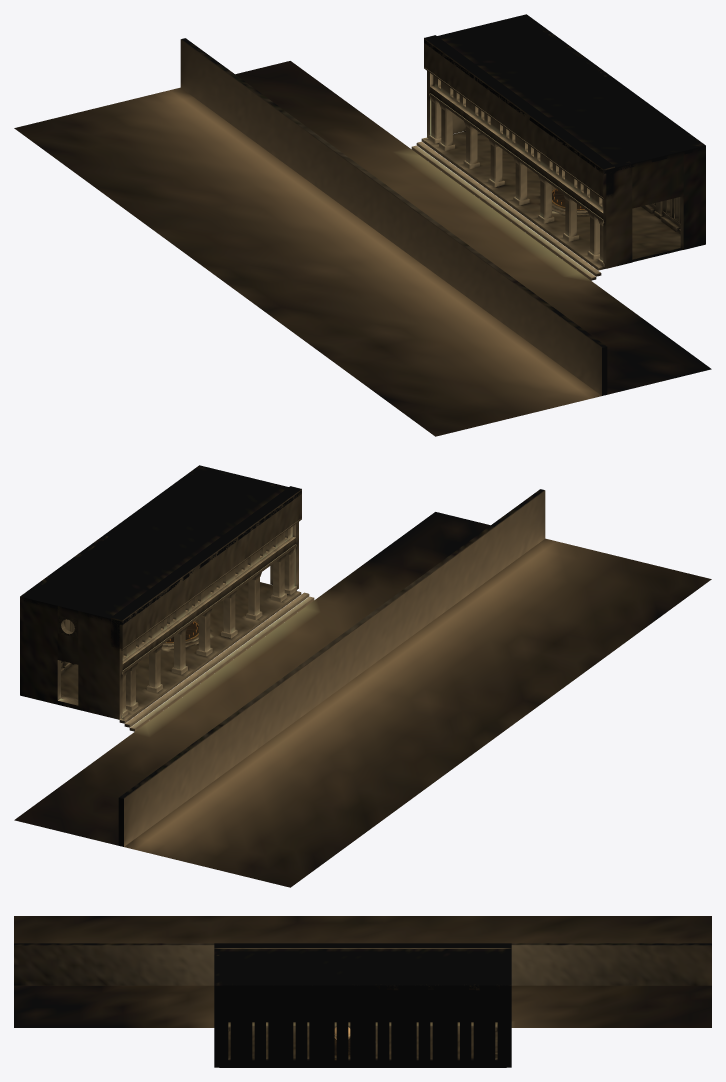
File: arcade.glb
3 views of the same model, one above another, from view 1: azimuth 30°, elevation 25°; view 2: azimuth 150°, elevation 25°; view 3: azimuth 270°, elevation 25° (orthographic). The views are drawn at different scales.
Visible parts, largest first — view 1: arcade; view 2: arcade; view 3: arcade.
Part boxes in pixels (x1,y1,x2,y2): arcade: [14, 14, 711, 436]; arcade: [14, 465, 711, 887]; arcade: [14, 916, 711, 1067].
Bounding box in the file's own units: 45.6 × 12.05 × 85.
